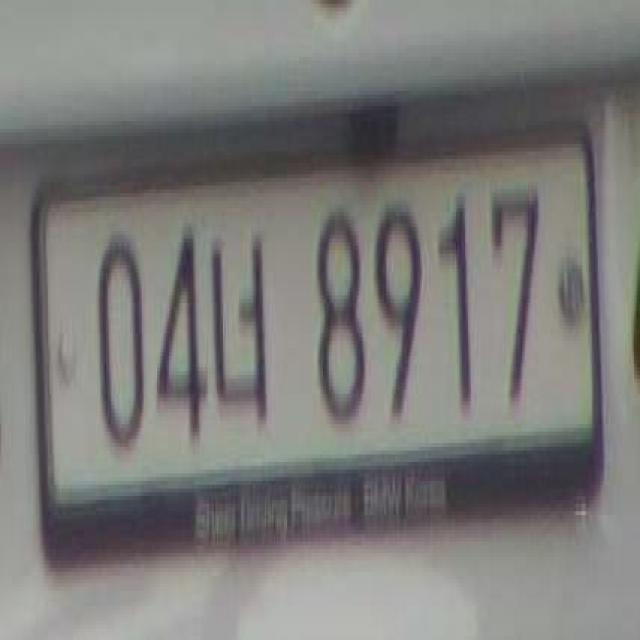illegal_plate: (36, 128, 608, 550)
